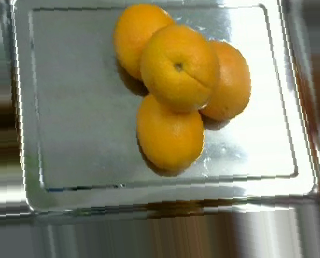Orange: (139, 23, 218, 111), (136, 90, 205, 171), (113, 4, 180, 84), (193, 39, 250, 122)
